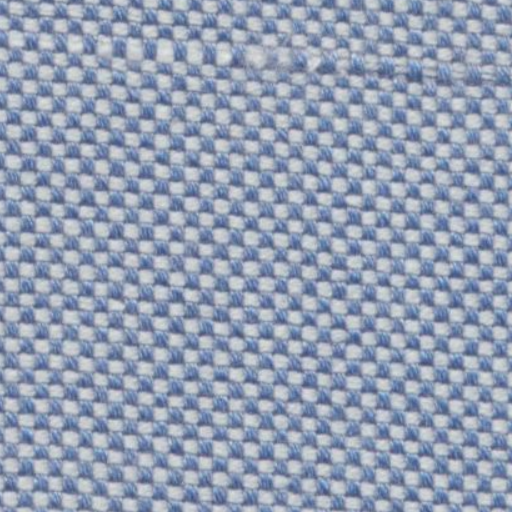DaiSha: (18, 10, 488, 90)
